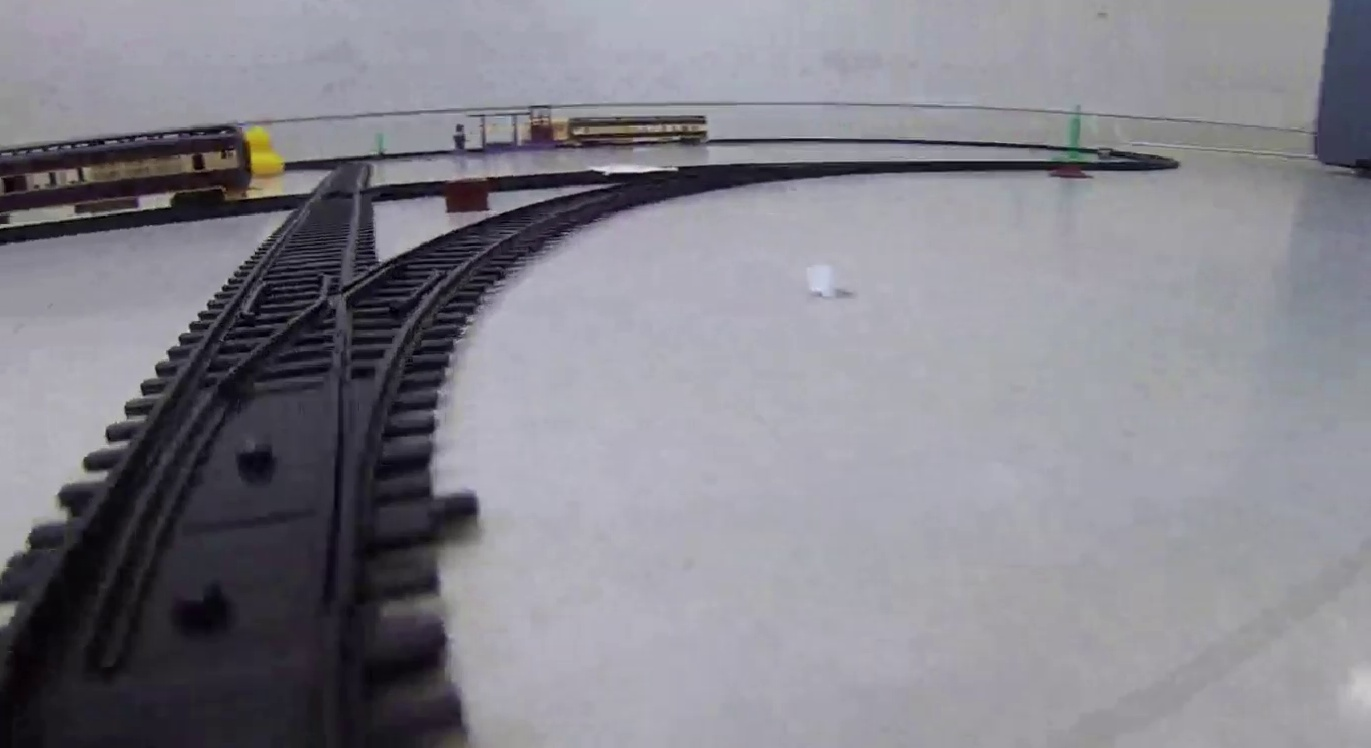box: (444, 176, 489, 213)
